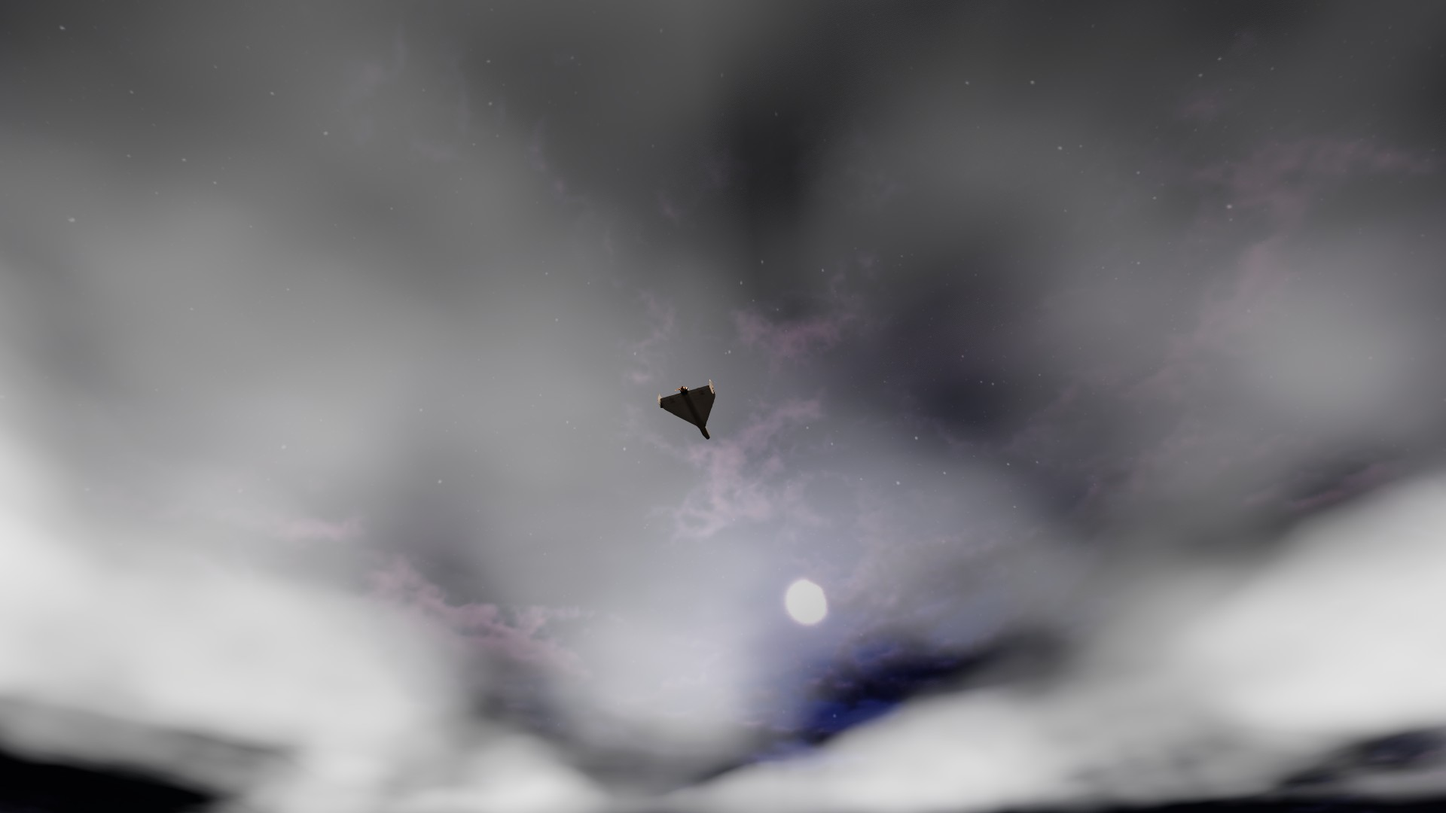shahed: (658, 379, 716, 440)
